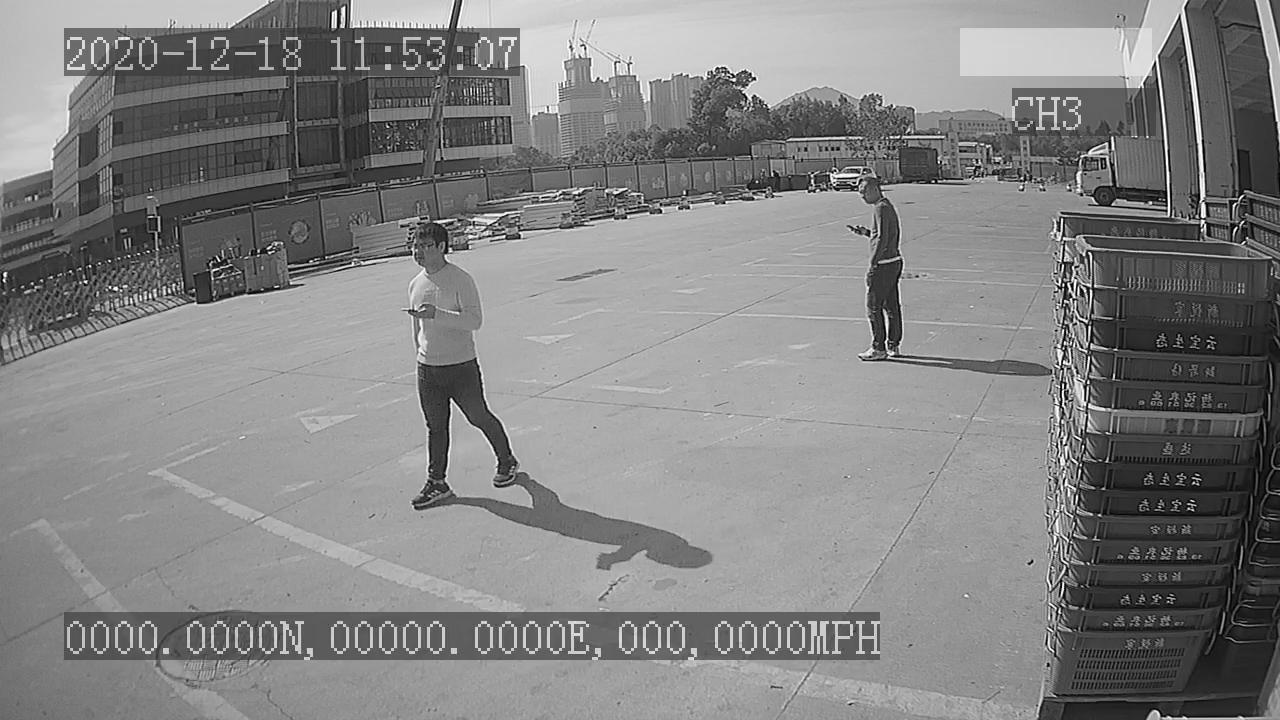person: (384, 215, 524, 510), (840, 172, 915, 370)
